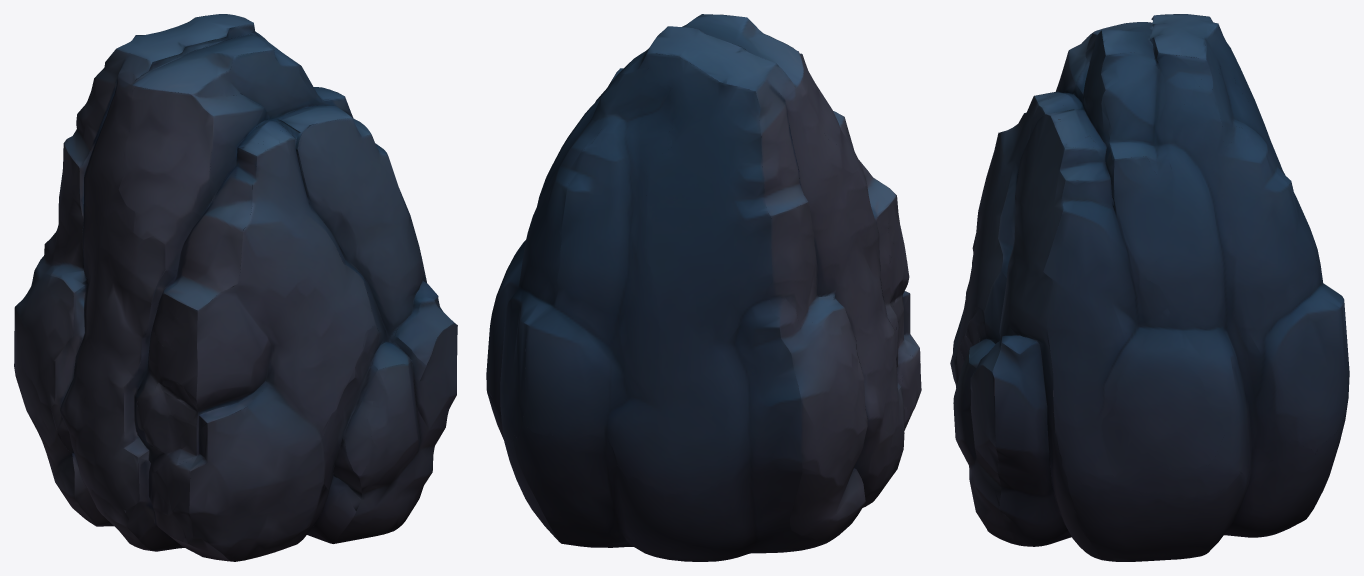
The model's file is standing_boulder.glb.
3 views of the same model, side by side, from view 1: azimuth 30°, elevation 25°; view 2: azimuth 150°, elevation 25°; view 3: azimuth 270°, elevation 25° (orthographic). The views are drawn at different scales.
Visible parts, largest first — view 1: node_0; view 2: node_0; view 3: node_0.
Boxes of the visible parts, x1=… form: node_0: x1=14, y1=14, x2=457, y2=561; node_0: x1=486, y1=14, x2=921, y2=561; node_0: x1=950, y1=14, x2=1349, y2=561.
Bounding box in the file's own units: 0.7703 × 0.9667 × 0.7688.
1 material, 1 textured.
